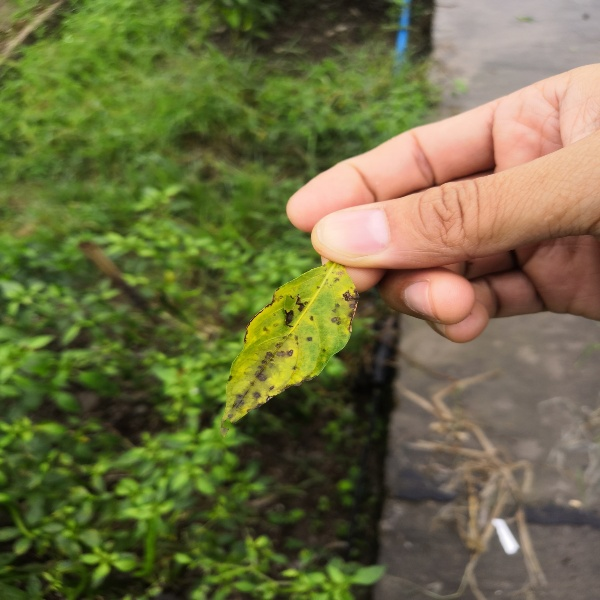Anthrax: (217, 261, 356, 425)
